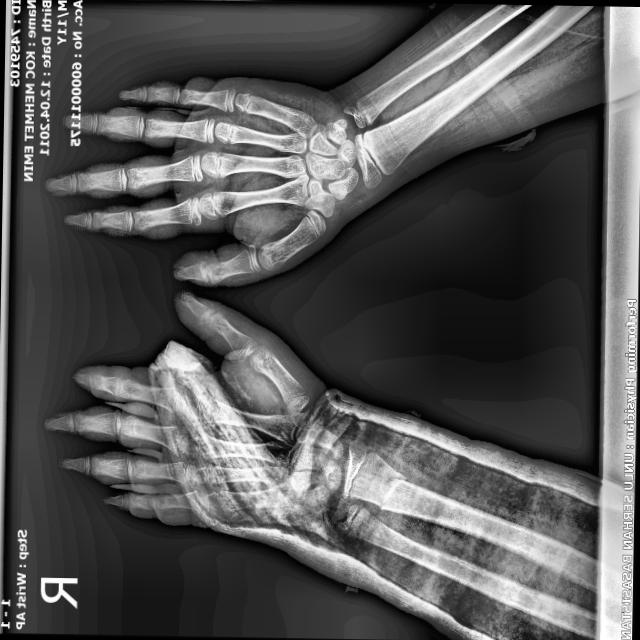Fracture: (377, 456, 412, 515)
